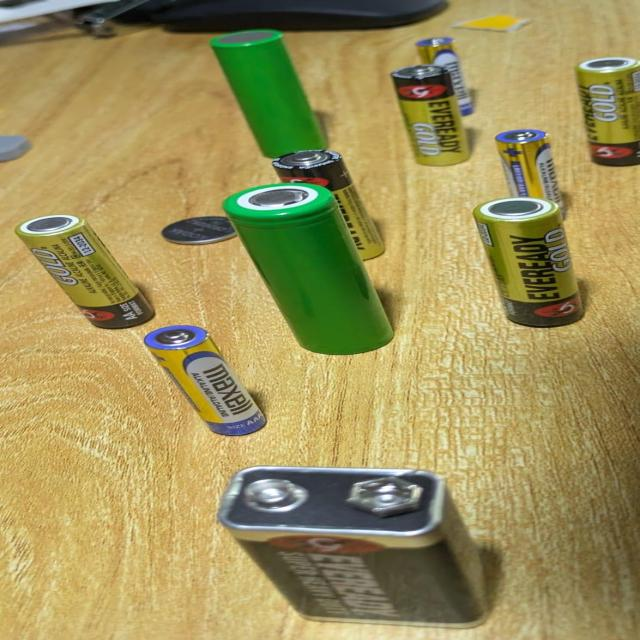9V: (208, 458, 506, 632)
AA: (12, 207, 168, 335), (469, 190, 599, 330), (389, 63, 473, 171), (569, 53, 640, 171), (269, 144, 365, 187)
AAA: (136, 318, 279, 440), (484, 124, 576, 202), (418, 28, 468, 59)
COIN: (154, 211, 242, 246)
